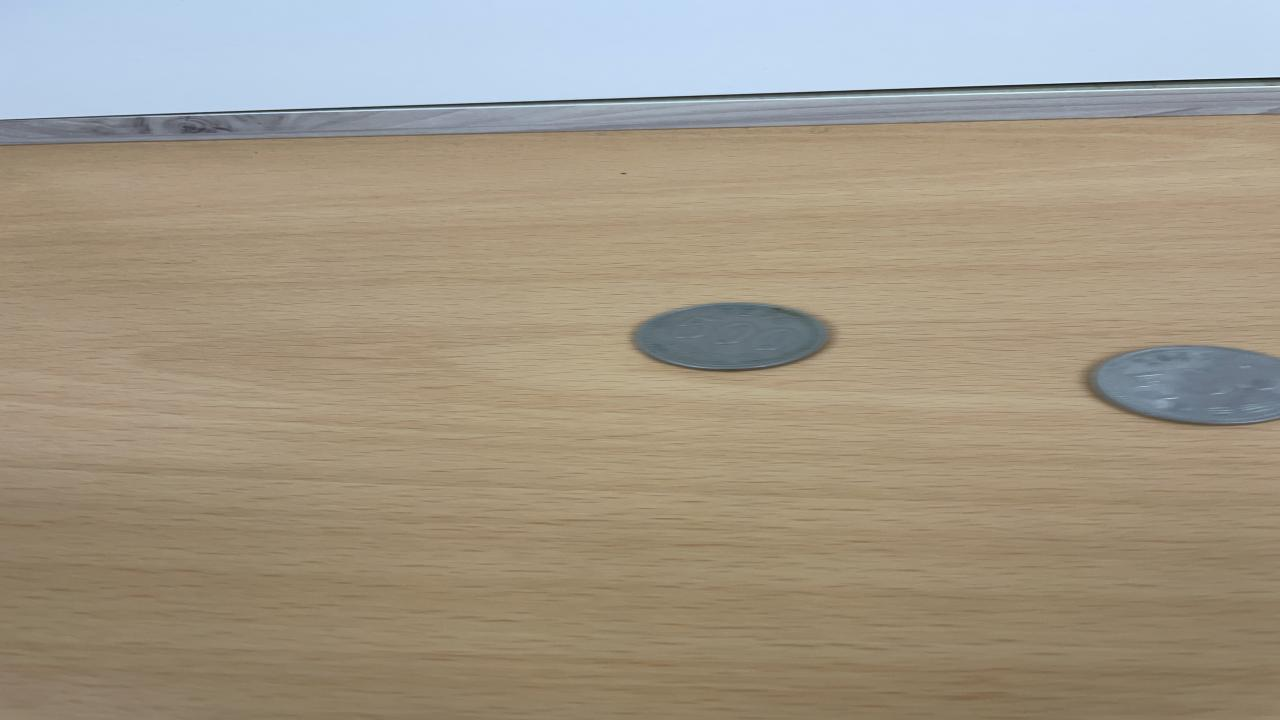coin: (1080, 342, 1280, 428), (630, 299, 839, 373)
